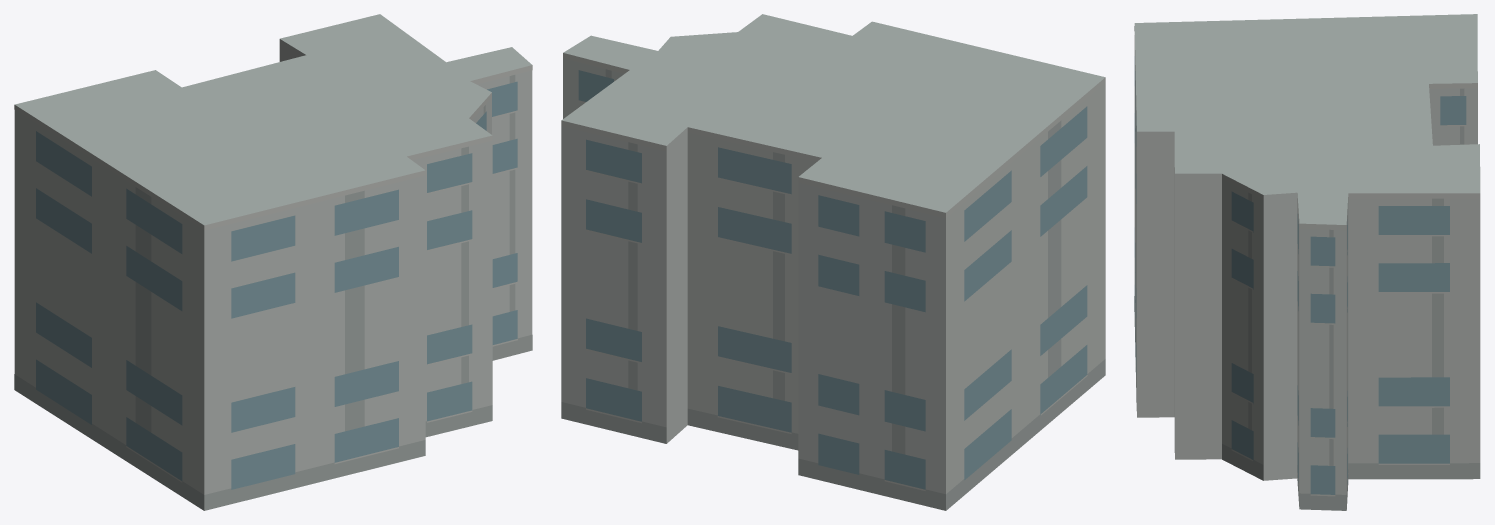
File: survey-upis-32743930.glb
3 renders of one model, left to right at view 1: azimuth 30°, elevation 25°; view 2: azimuth 150°, elevation 25°; view 3: azimuth 270°, elevation 25°, orthographic. The views are drawn at different scales.
Visible parts, largest first — view 1: survey-upis-32743930.tmp; view 2: survey-upis-32743930.tmp; view 3: survey-upis-32743930.tmp.
Boxes of the visible parts, bbox=[...] form: survey-upis-32743930.tmp: bbox=[14, 14, 532, 510]; survey-upis-32743930.tmp: bbox=[561, 14, 1105, 510]; survey-upis-32743930.tmp: bbox=[1134, 14, 1480, 510].
Bounding box in the file's own units: 21.16 × 13.35 × 14.65.
